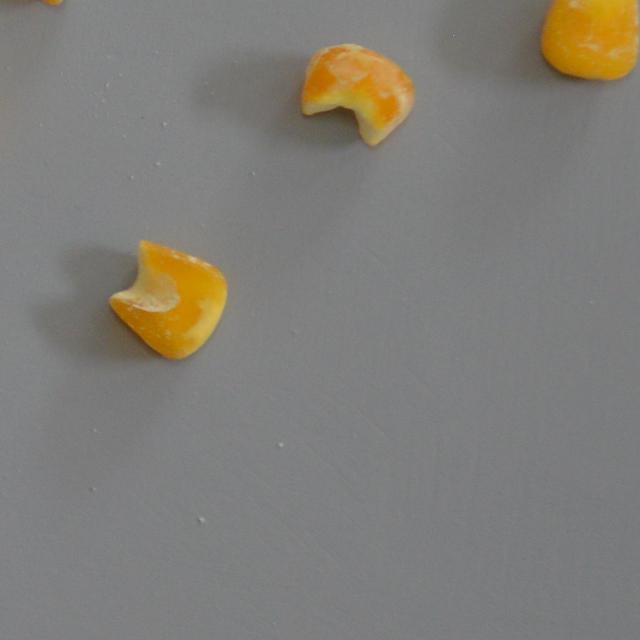pelicula: (108, 240, 228, 359), (300, 44, 413, 148), (540, 0, 640, 81)
